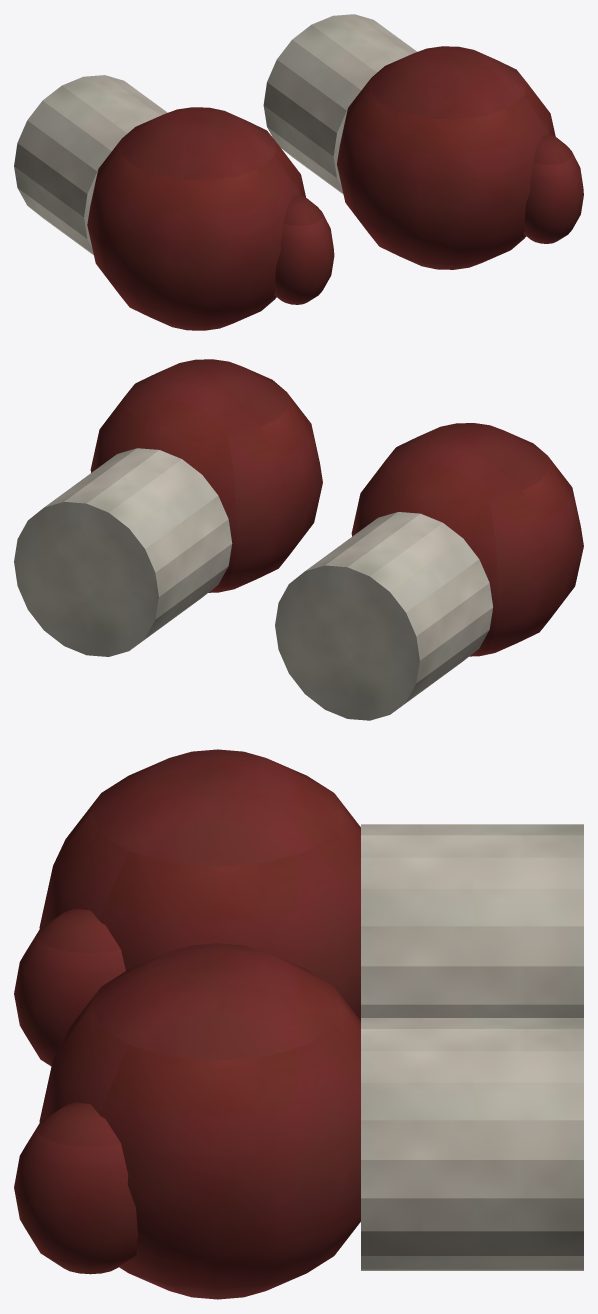
Rendered from SP19_BoxingGloves.glb.
3 views of the same model, one above another, from view 1: azimuth 30°, elevation 25°; view 2: azimuth 150°, elevation 25°; view 3: azimuth 270°, elevation 25° (orthographic). The views are drawn at different scales.
Visible parts, largest first — view 1: SP19_BoxingGloves; view 2: SP19_BoxingGloves; view 3: SP19_BoxingGloves.
Part boxes in pixels (x1,y1,x2,y2): SP19_BoxingGloves: (14, 14, 583, 330); SP19_BoxingGloves: (14, 359, 583, 720); SP19_BoxingGloves: (14, 749, 583, 1299).
Size of the model in its own units: 0.3 by 0.1312 by 0.2098.
Materials: 2 (2 with a texture image).
